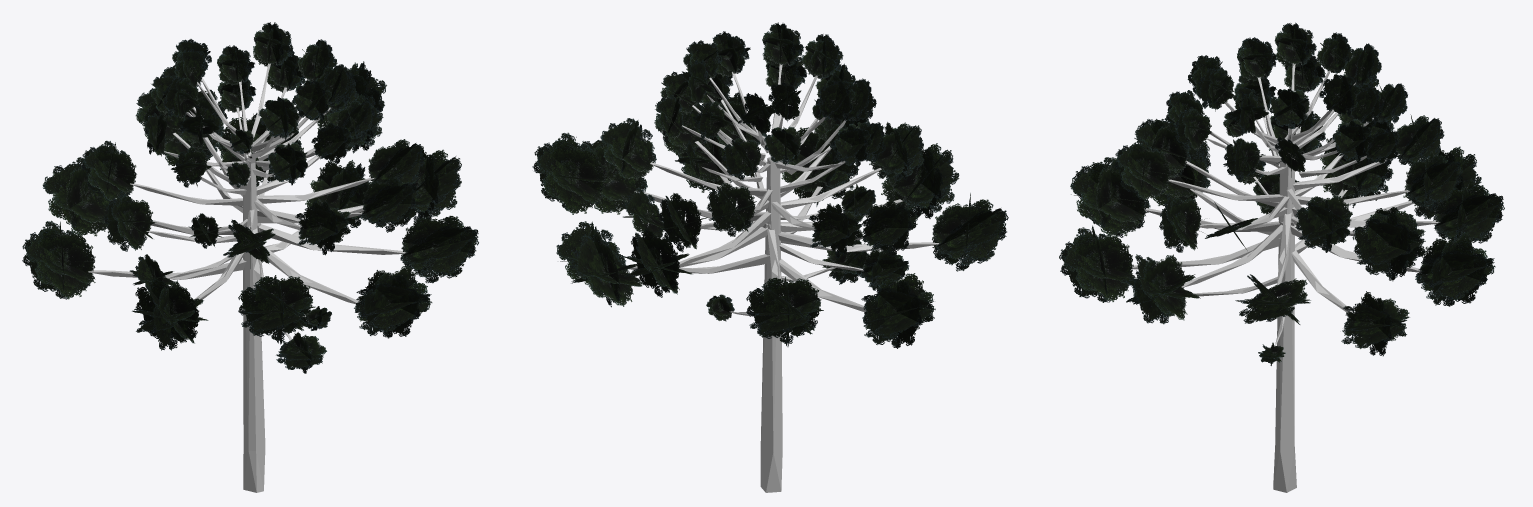
Rendered from teste araucaria v2 LOD.fbx.
The picture shows the model from 3 angles, left to right: view 1: azimuth 30°, elevation 25°; view 2: azimuth 150°, elevation 25°; view 3: azimuth 270°, elevation 25°; orthographic projection.
Parts seen in each view (by area): view 1: Cylinder.001; view 2: Cylinder.001; view 3: Cylinder.001.
Part boxes in pixels (left/top/right/bottom): Cylinder.001: left=22, top=22, right=478, bottom=492; Cylinder.001: left=532, top=22, right=1008, bottom=492; Cylinder.001: left=1059, top=22, right=1504, bottom=492.
Bounding box in the file's own units: 4014 × 4032 × 3863.
